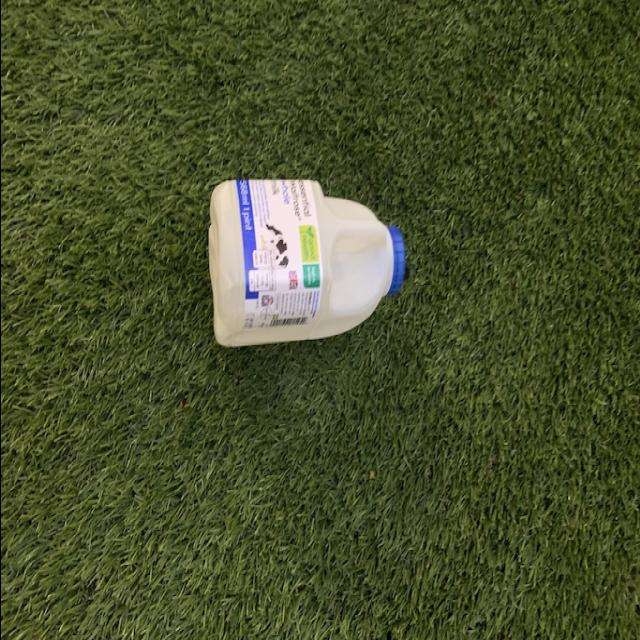HDPEM: (200, 175, 408, 354)
